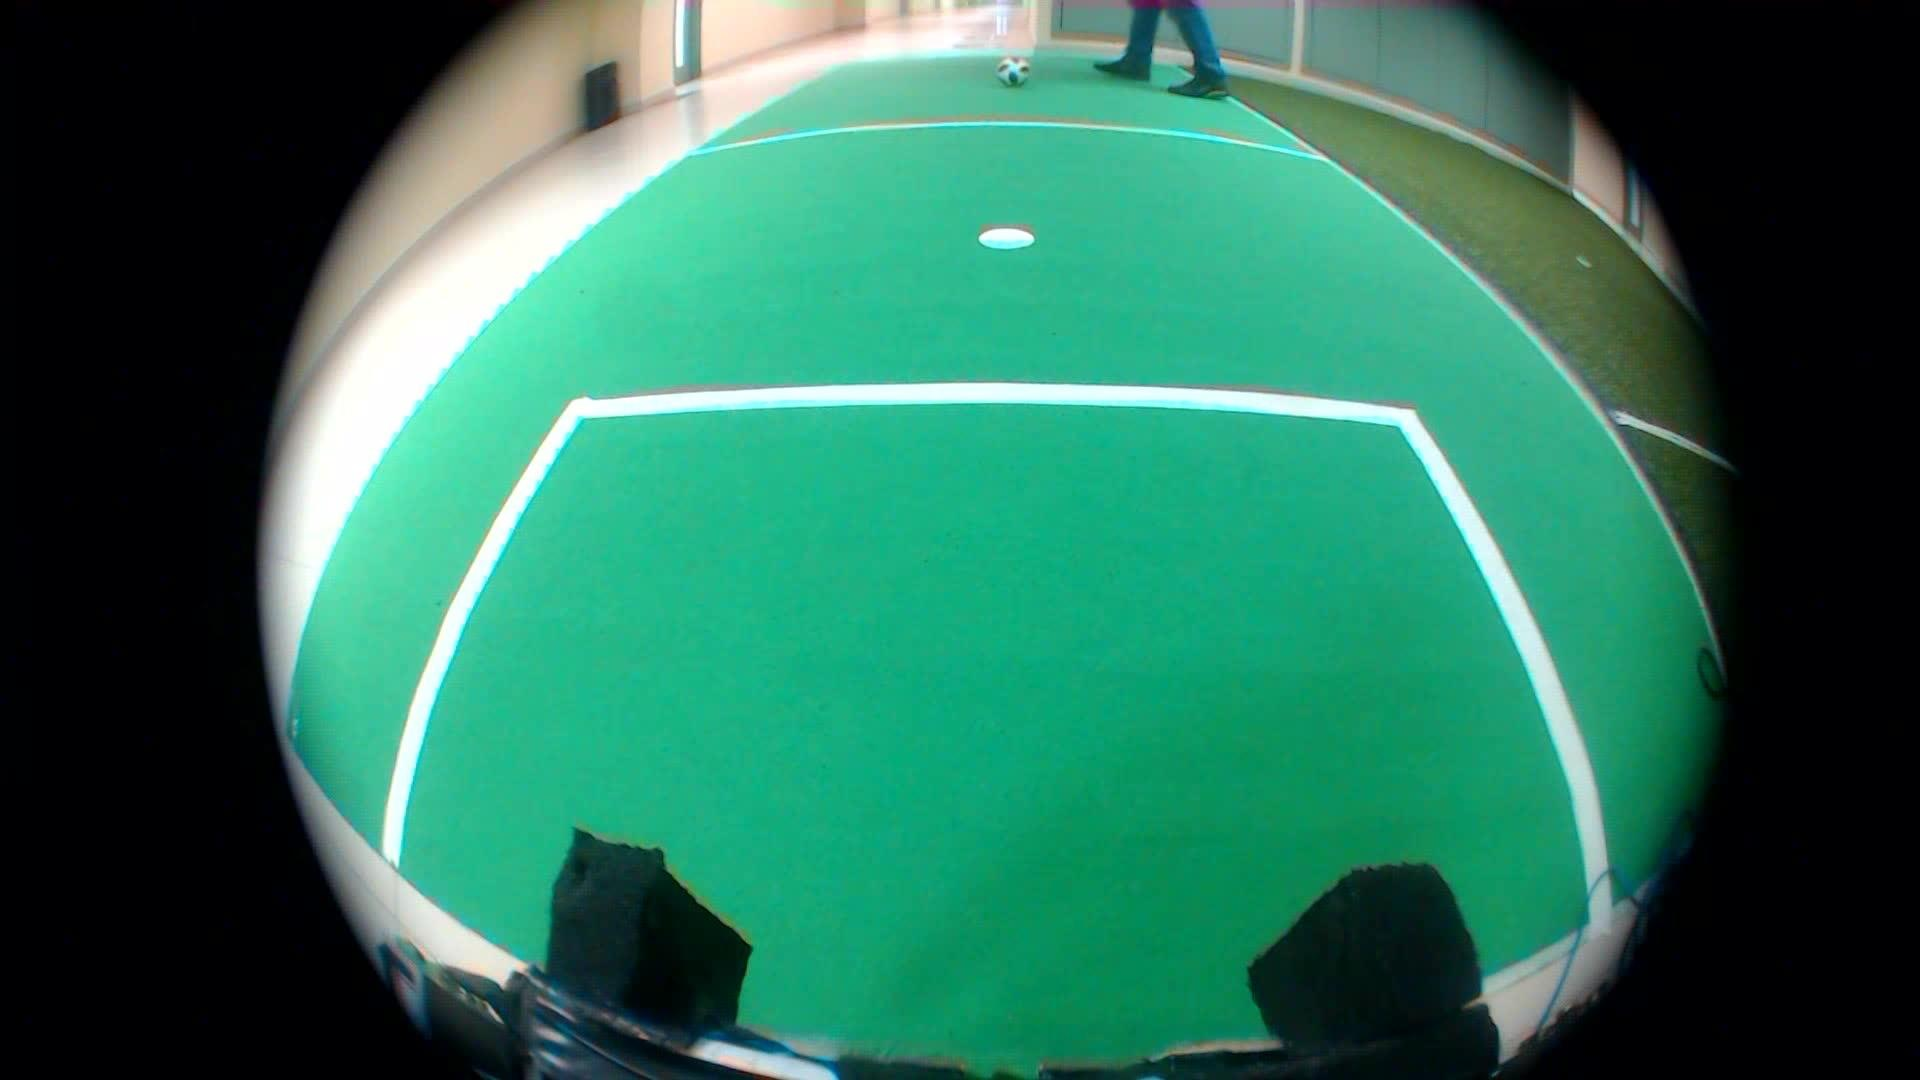ball: (986, 47, 1029, 94)
